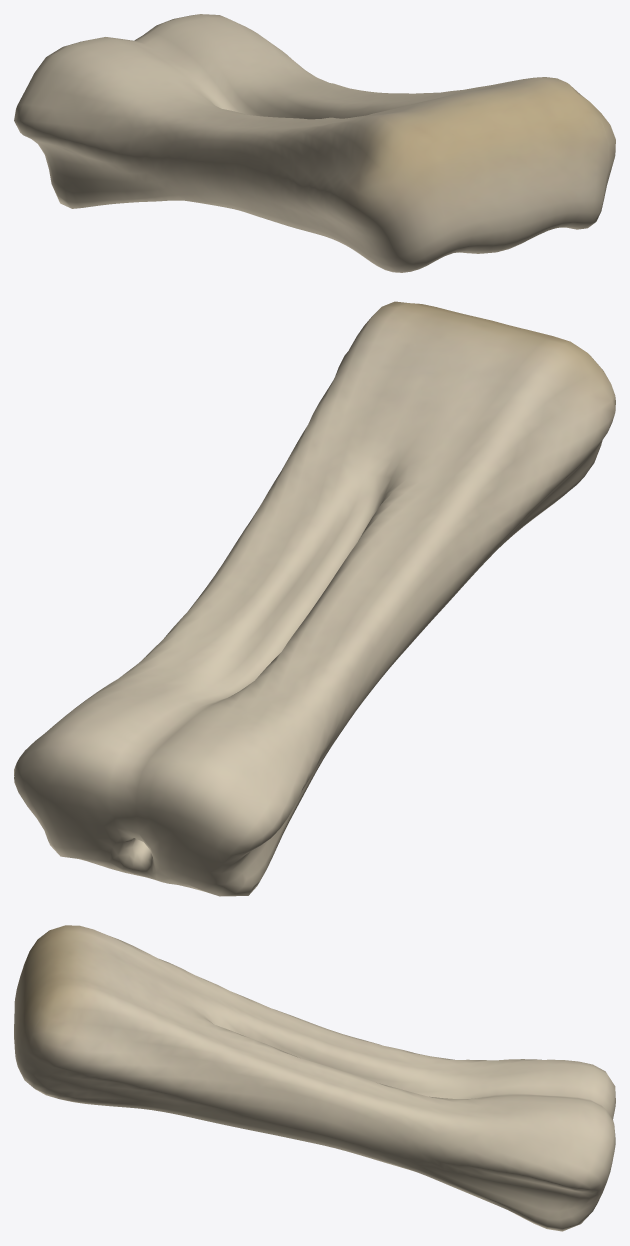
The model's file is vertebrae caudales 15.fbx.
The picture shows the model from 3 angles, top to bottom: view 1: azimuth 30°, elevation 25°; view 2: azimuth 150°, elevation 25°; view 3: azimuth 270°, elevation 25°; orthographic projection. The views are drawn at different scales.
Parts seen in each view (by area): view 1: vertebrae caudales 15; view 2: vertebrae caudales 15; view 3: vertebrae caudales 15.
Part boxes in pixels (<box>): vertebrae caudales 15: <box>14,14,615,272</box>; vertebrae caudales 15: <box>14,301,615,896</box>; vertebrae caudales 15: <box>14,925,615,1231</box>.
Size of the model in its own units: 2 by 2.31 by 5.18.
